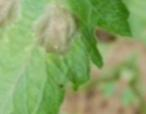Tomato leaf late blight: (0, 0, 117, 114)
